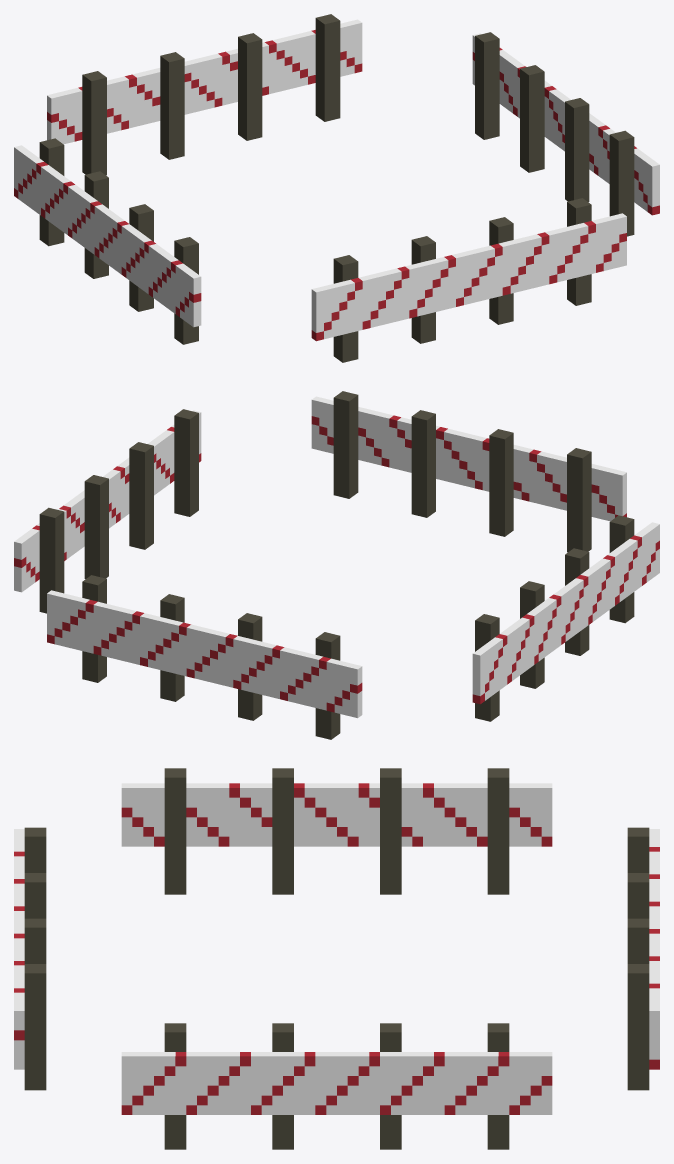
The model's file is roadblock.obj.
The picture shows the model from 3 angles, top to bottom: view 1: azimuth 30°, elevation 25°; view 2: azimuth 150°, elevation 25°; view 3: azimuth 270°, elevation 25°; orthographic projection. The views are drawn at different scales.
Bounding box in the file's own units: 6 × 1.2 × 6.
Materials: 1 (1 with a texture image).
